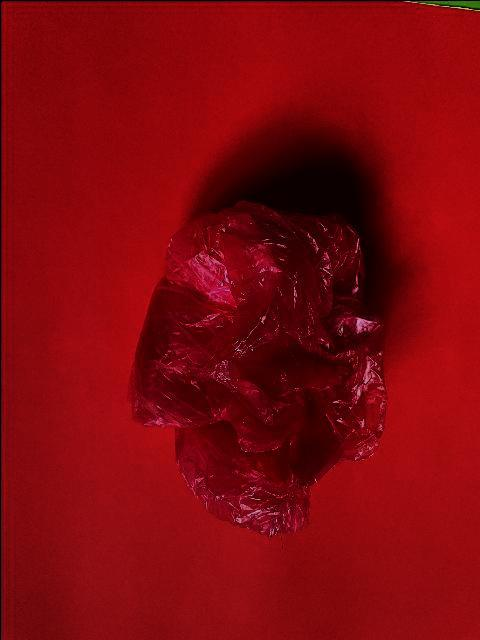plasticbag: (125, 195, 389, 540)
